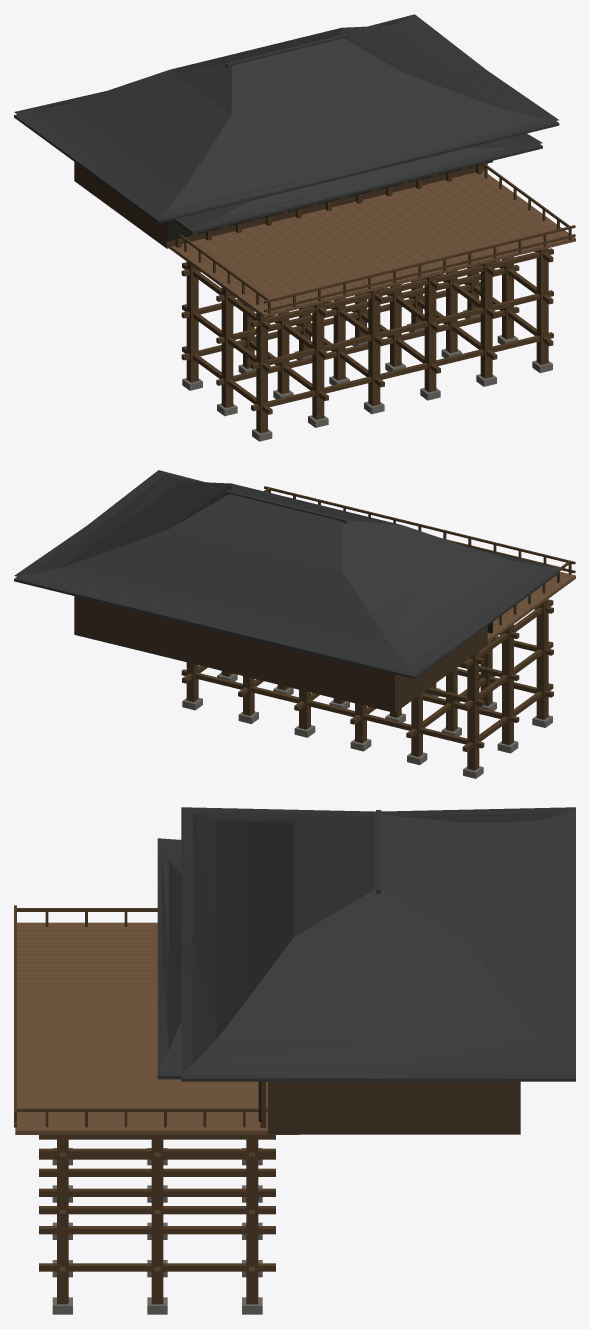
The model's file is kiyomizuHall.glb.
3 renders of one model, top to bottom at view 1: azimuth 30°, elevation 25°; view 2: azimuth 150°, elevation 25°; view 3: azimuth 270°, elevation 25°, orthographic. The views are drawn at different scales.
Size of the model in its own units: 40 by 25.64 by 35.59.
